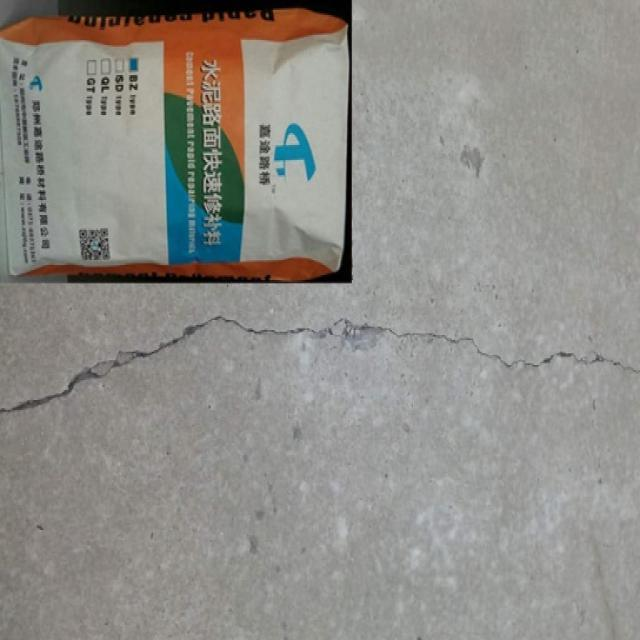Transverse: (8, 305, 640, 422)
